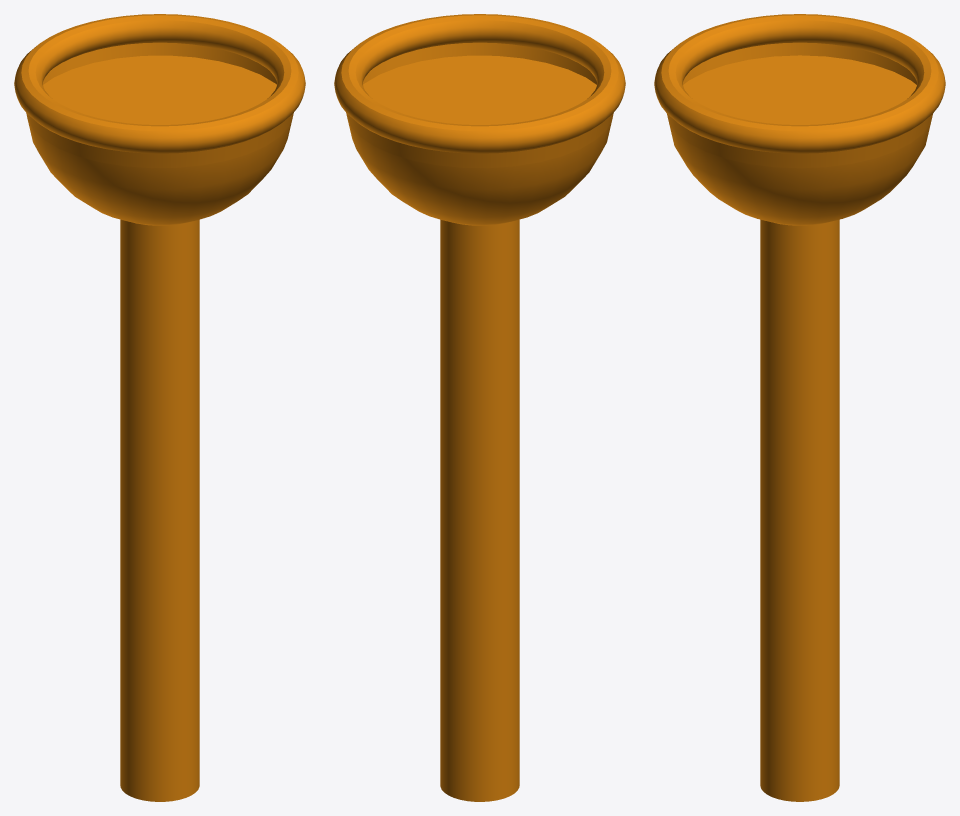
The model's file is torch.fbx.
The picture shows the model from 3 angles, left to right: view 1: azimuth 30°, elevation 25°; view 2: azimuth 150°, elevation 25°; view 3: azimuth 270°, elevation 25°; orthographic projection.
Visible parts, largest first — view 1: Sphere, Cylinder; view 2: Sphere, Cylinder; view 3: Sphere, Cylinder.
Boxes of the visible parts, x1,y1,x2,y2 form: Sphere: (14,14,305,225); Cylinder: (120,219,199,801); Sphere: (334,14,625,225); Cylinder: (440,219,519,801); Sphere: (654,14,945,225); Cylinder: (760,219,839,801).
Bounding box in the file's own units: 482 × 1303 × 482.
